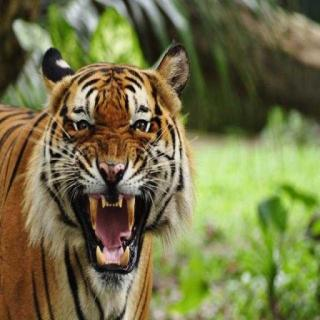Tiger: (0, 27, 201, 320)
